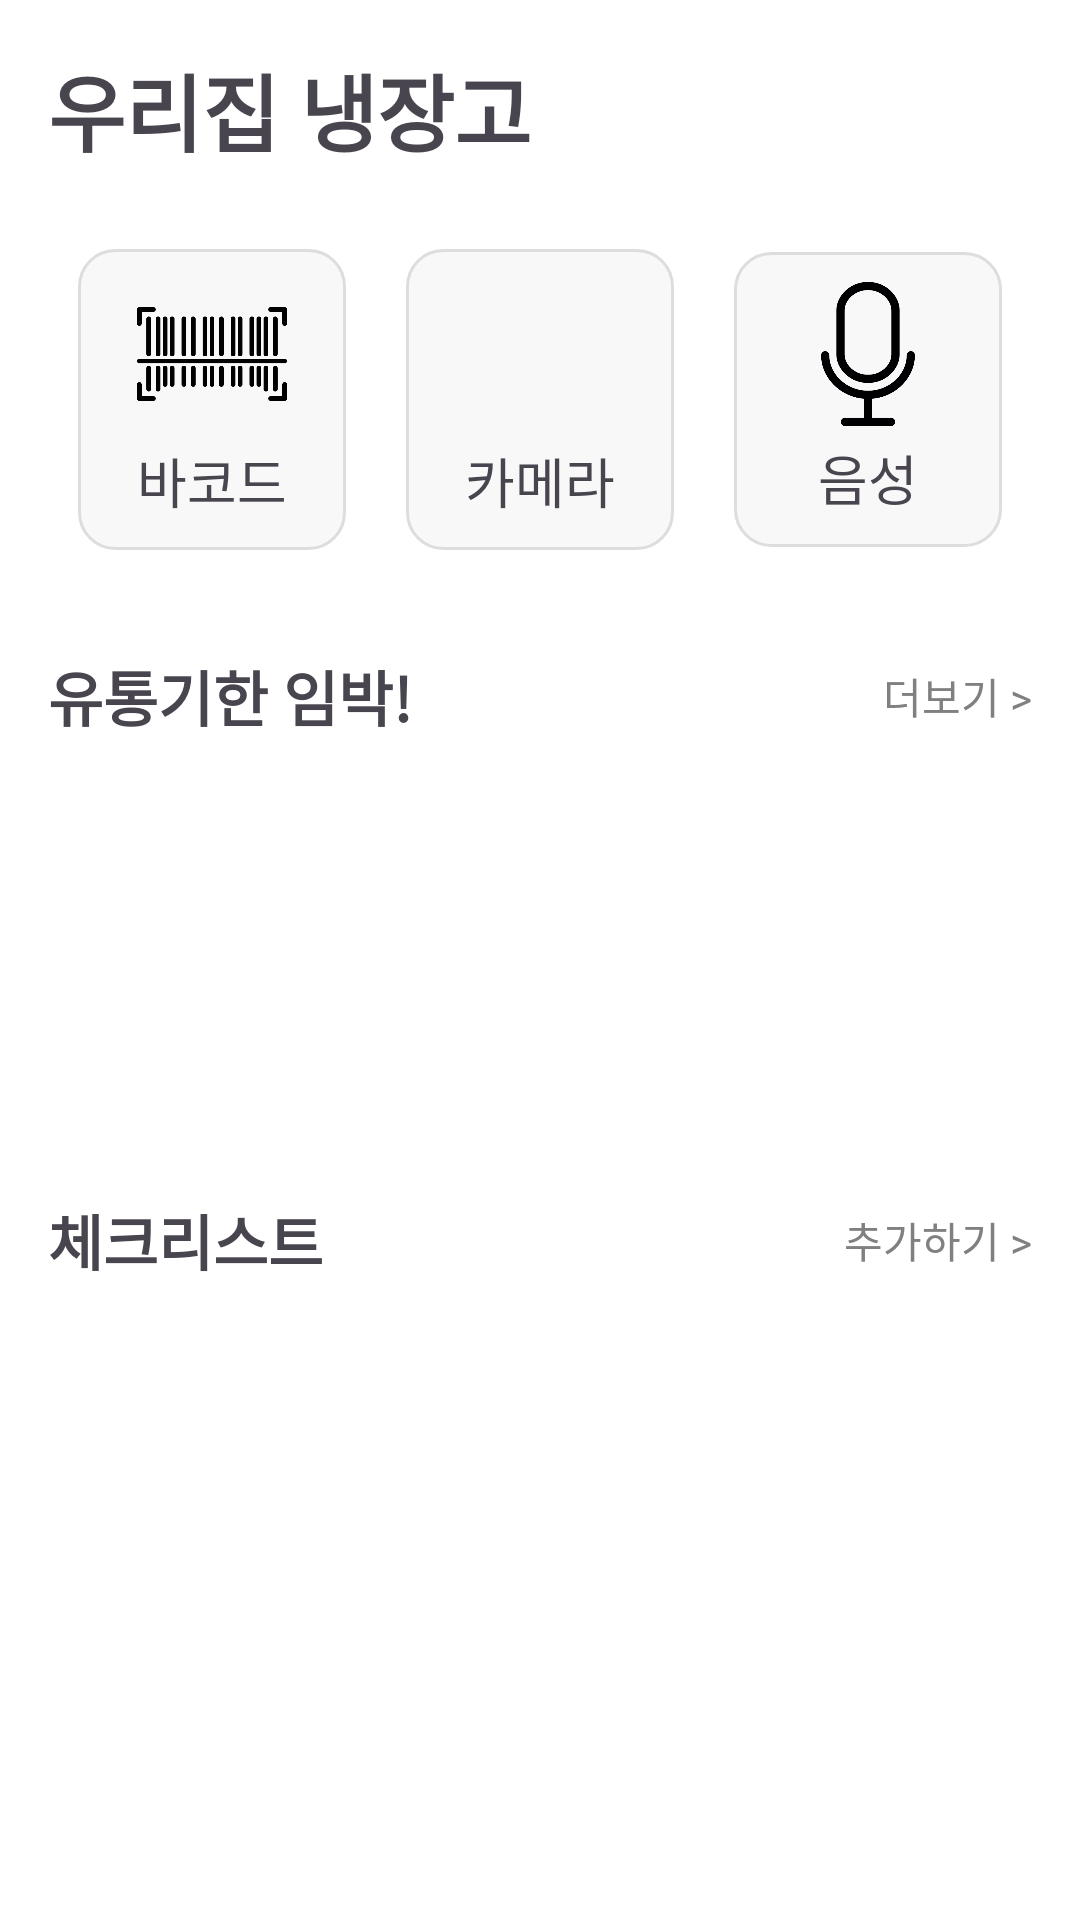

Icon click points for this 1080px x 1920px phone screenshot, format (x=x, y=y):
mic: (x=868, y=354)
